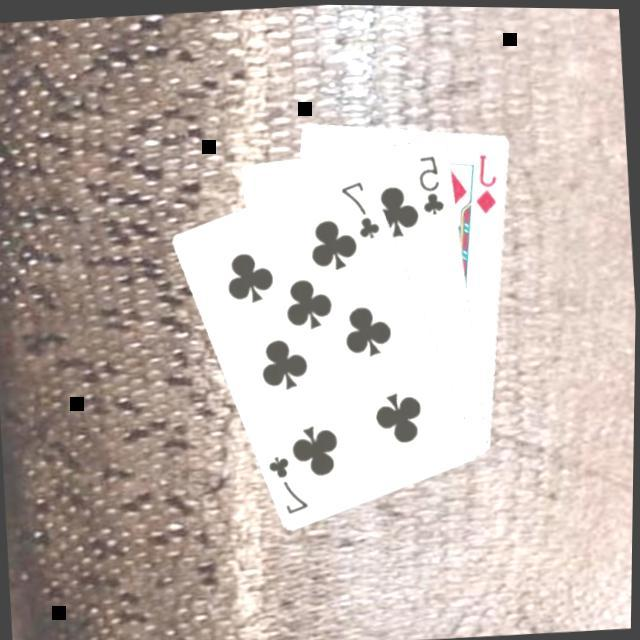5C: (412, 148, 448, 215)
7C: (264, 446, 314, 516), (336, 172, 384, 240)
JD: (468, 146, 502, 213)
